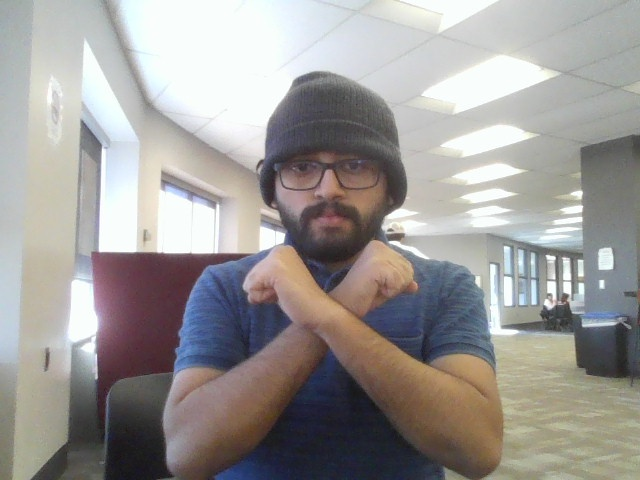start: (236, 231, 436, 471)
